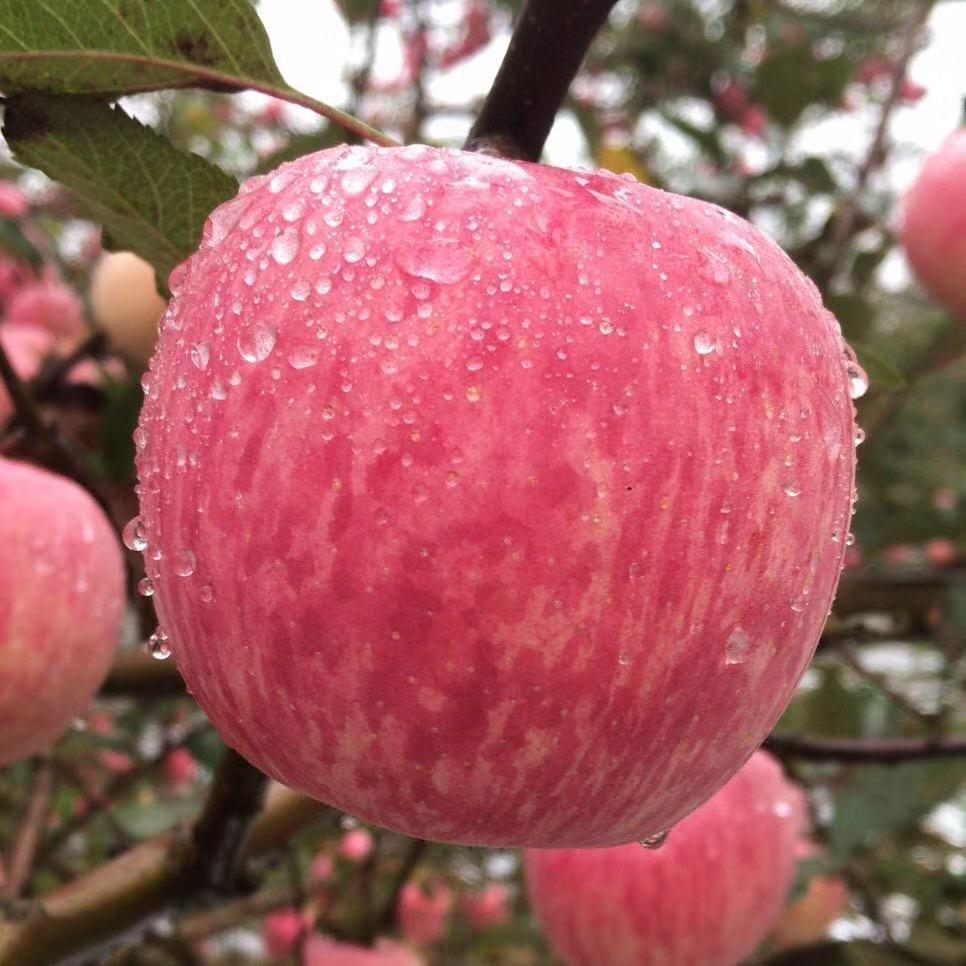apple: (128, 145, 863, 844), (520, 747, 813, 959), (1, 449, 127, 758)
